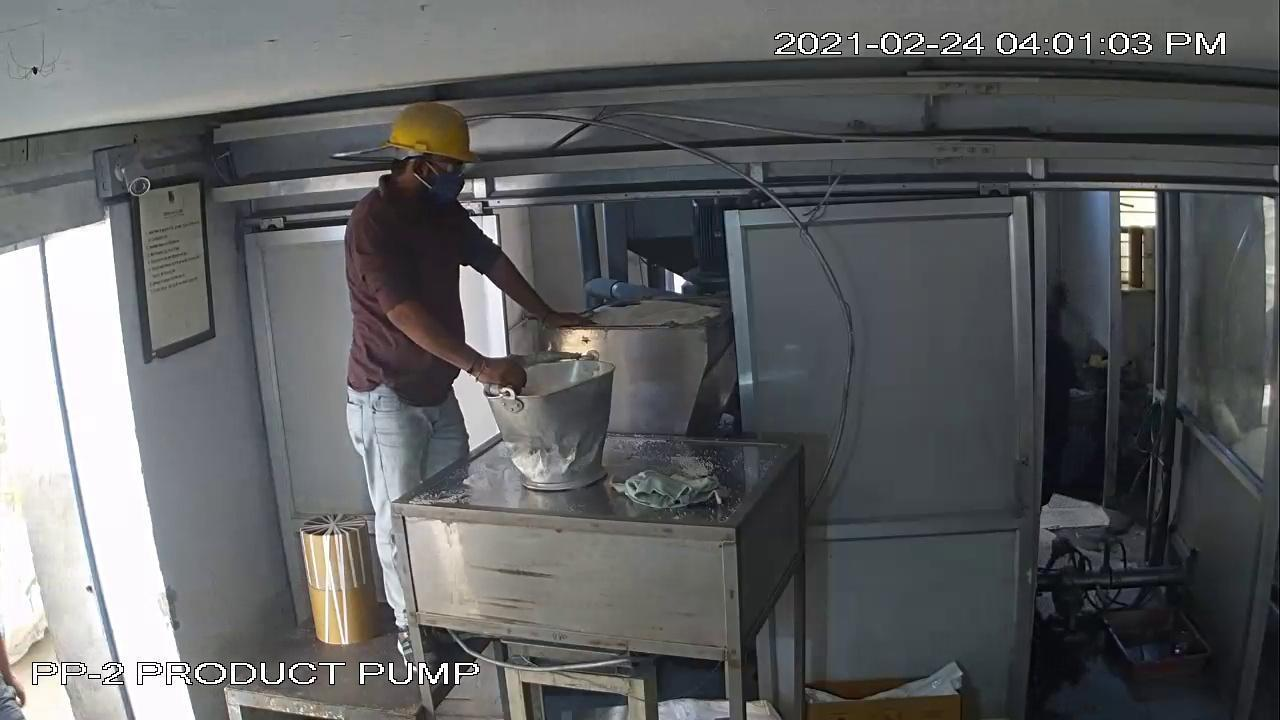helmet: (374, 98, 485, 163)
